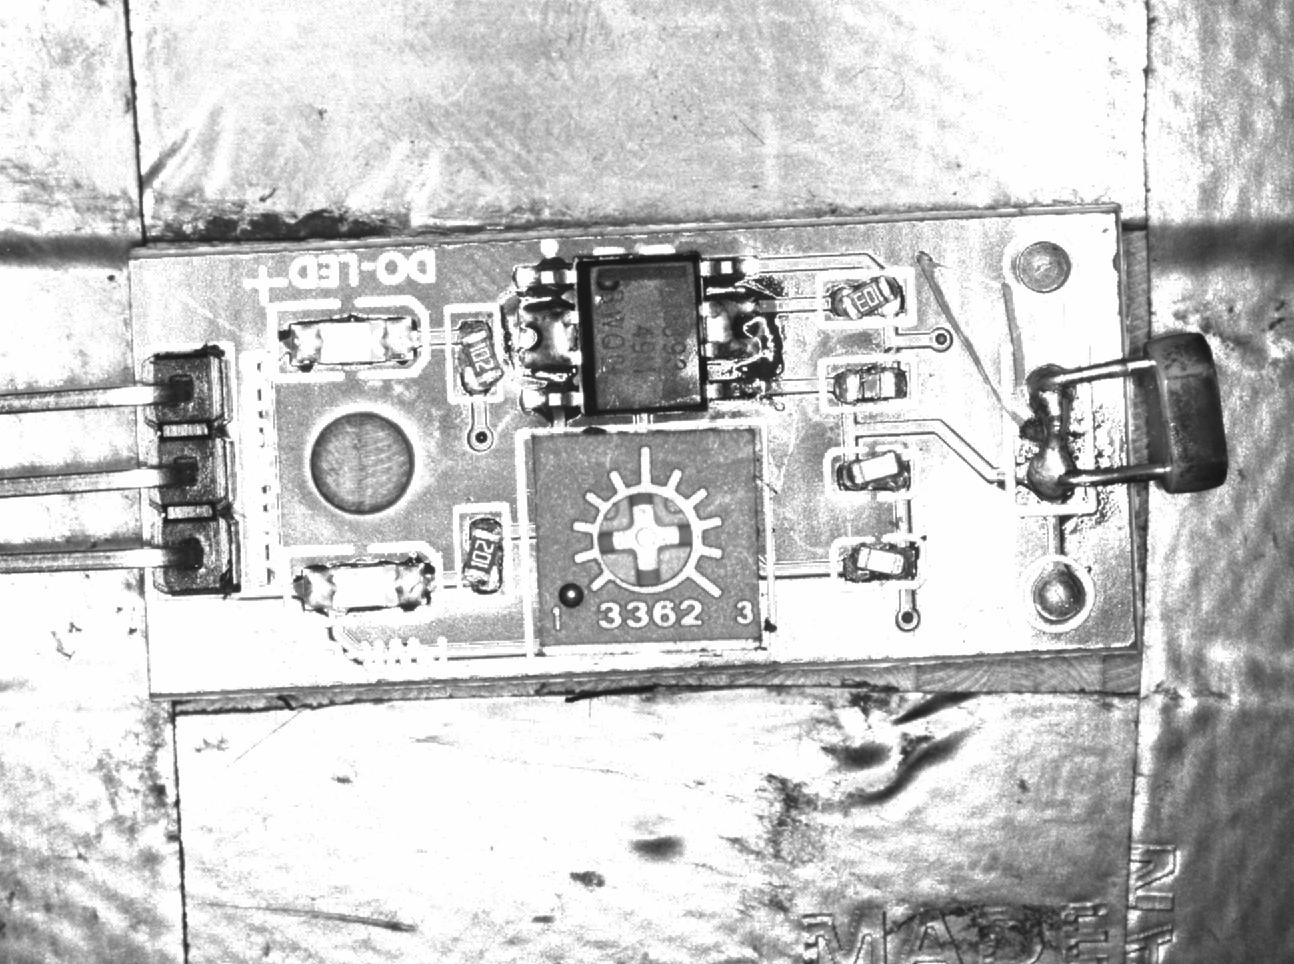lifted: (458, 506, 510, 602), (830, 536, 925, 587), (450, 309, 502, 399), (825, 449, 919, 498), (822, 271, 910, 318)
ok: (1007, 348, 1091, 514), (518, 301, 582, 372), (705, 294, 764, 356)
